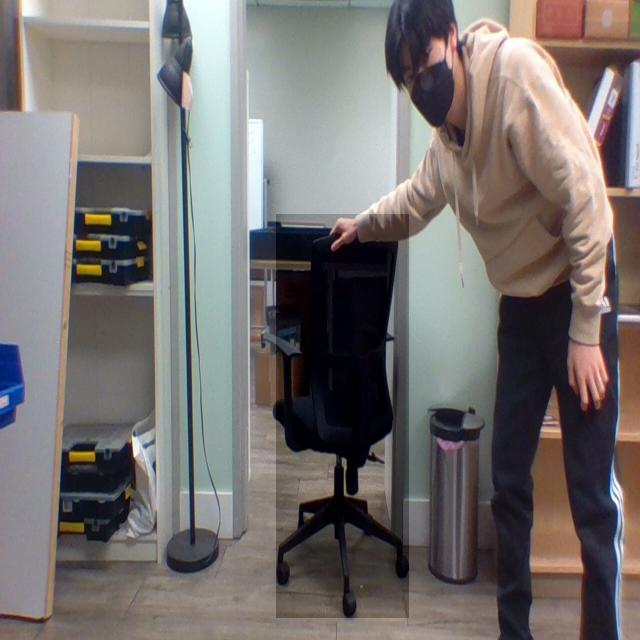black-chair: (276, 214, 410, 619)
